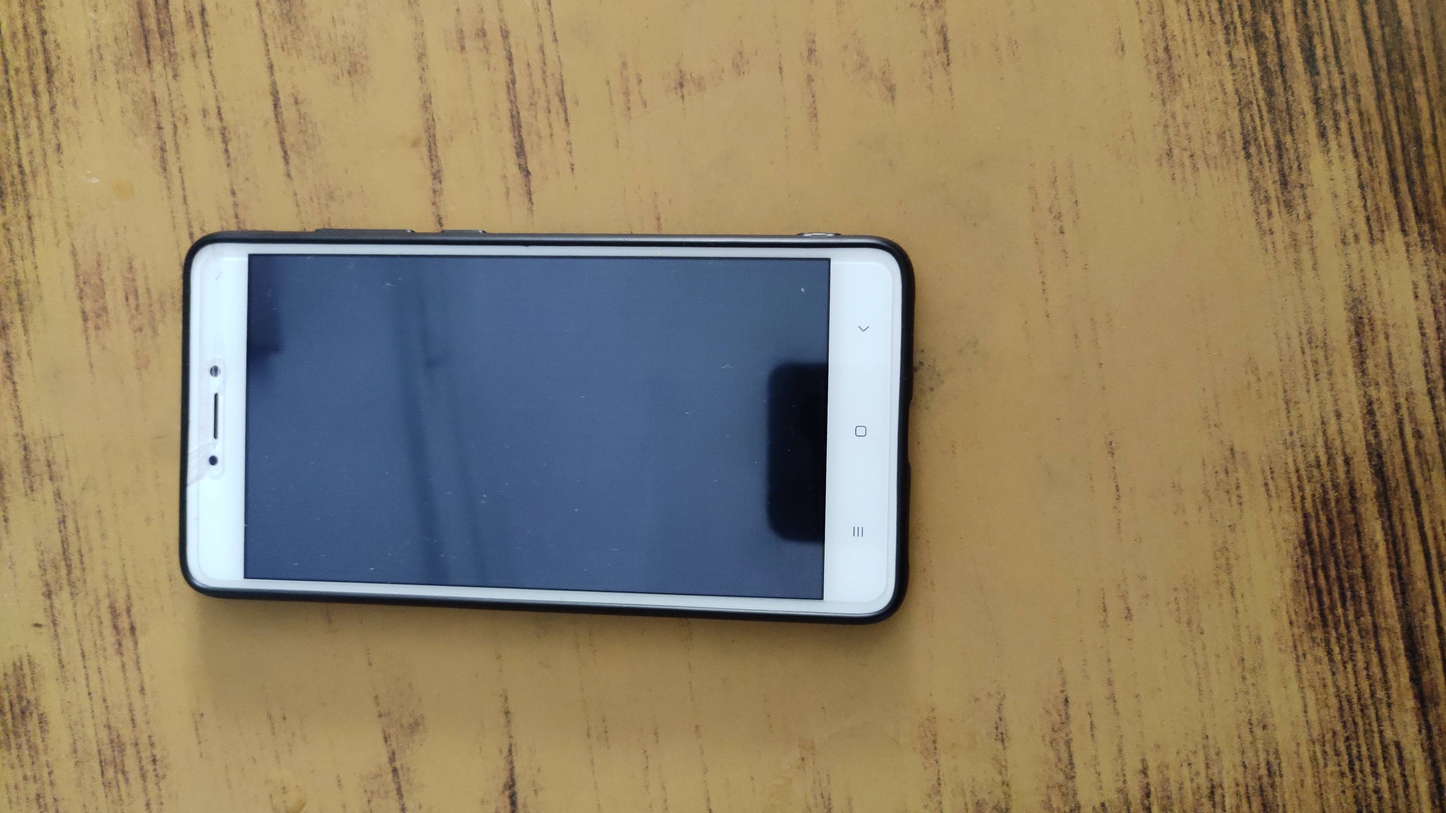Electronics: (150, 194, 944, 639)
